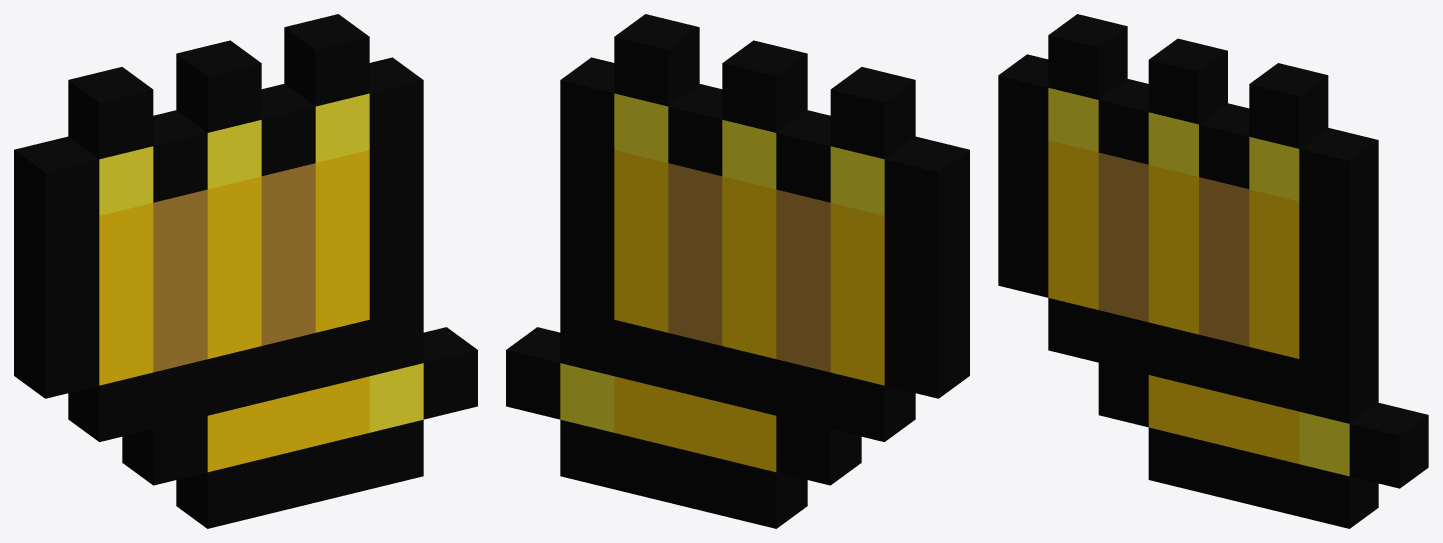
Rendered from Ammo.glb.
3 renders of one model, left to right at view 1: azimuth 30°, elevation 25°; view 2: azimuth 150°, elevation 25°; view 3: azimuth 330°, elevation 25°, orthographic. The views are drawn at different scales.
Parts seen in each view (by area): view 1: generated(Clone); view 2: generated(Clone); view 3: generated(Clone).
Part boxes in pixels (bbox=[...]): generated(Clone): bbox=[14, 14, 477, 528]; generated(Clone): bbox=[506, 14, 969, 528]; generated(Clone): bbox=[998, 14, 1428, 528].
Size of the model in its own units: 8 by 8 by 1.
Materials: 1 (1 with a texture image).
